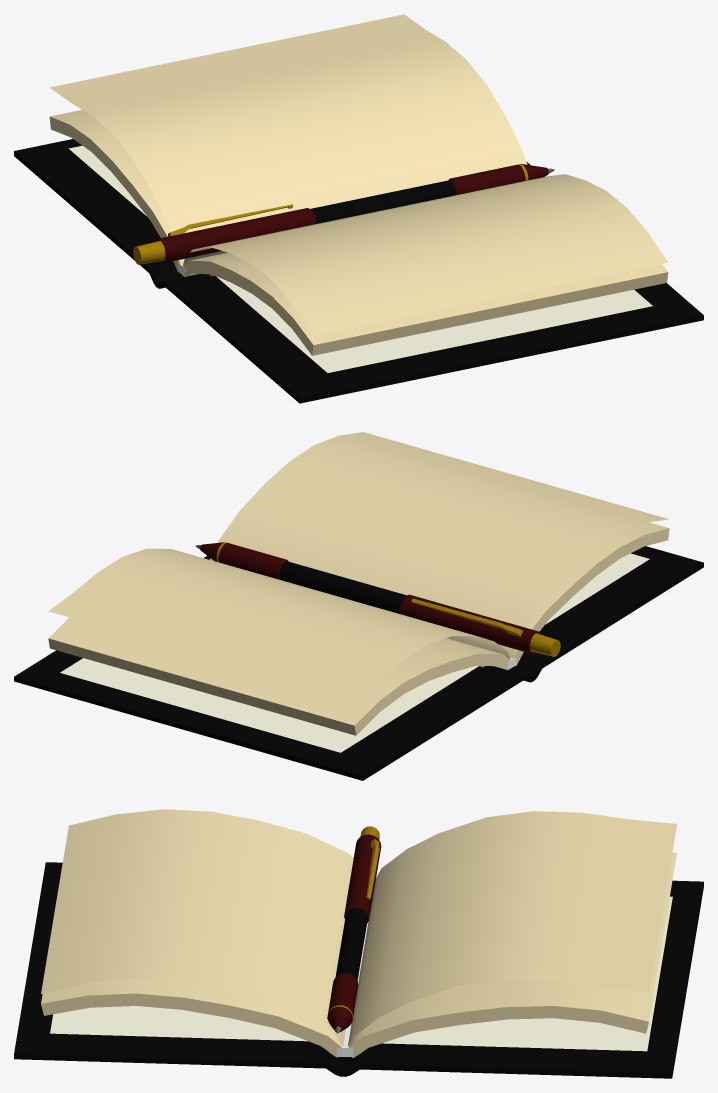
Rendered from Guest-book.glb.
3 renders of one model, top to bottom at view 1: azimuth 30°, elevation 25°; view 2: azimuth 150°, elevation 25°; view 3: azimuth 270°, elevation 25°, orthographic. The views are drawn at different scales.
Visible parts, largest first — view 1: Object_6.003; view 2: Object_6.003; view 3: Object_6.003.
Part boxes in pixels (bbox=[...]): Object_6.003: bbox=[14, 14, 703, 403]; Object_6.003: bbox=[14, 432, 703, 780]; Object_6.003: bbox=[14, 809, 703, 1078].
Bounding box in the file's own units: 0.3393 × 0.067 × 0.4651.
